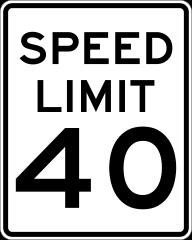Speed limit -40-: (9, 18, 183, 219)
